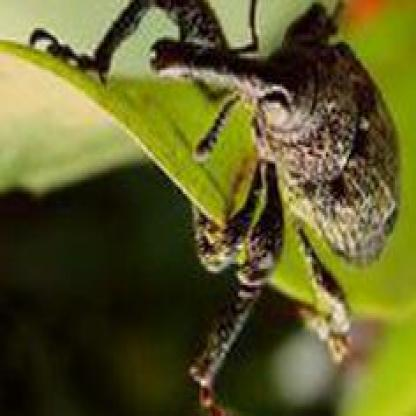rice-bug: (29, 0, 402, 389)
